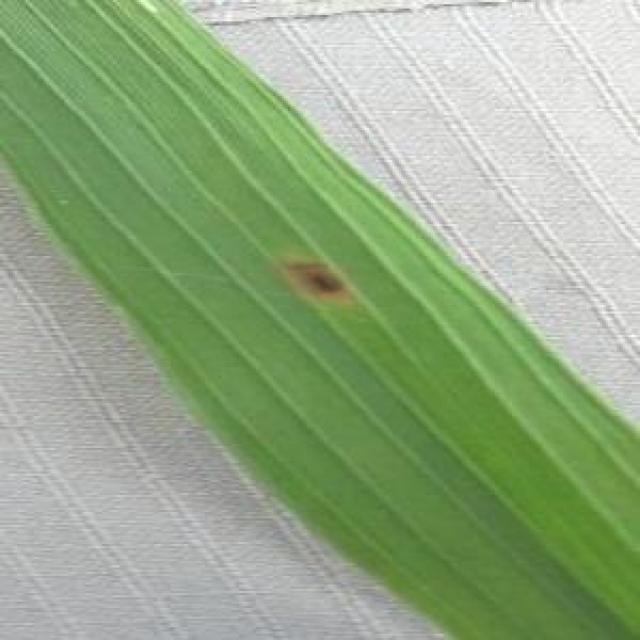Rice_Brownspot: (266, 245, 361, 308)
